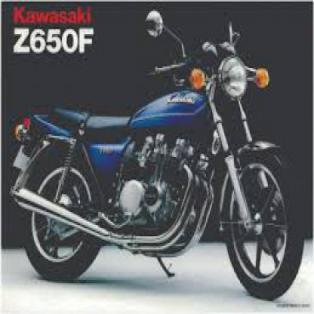Motocicleta: (12, 0, 302, 303)
